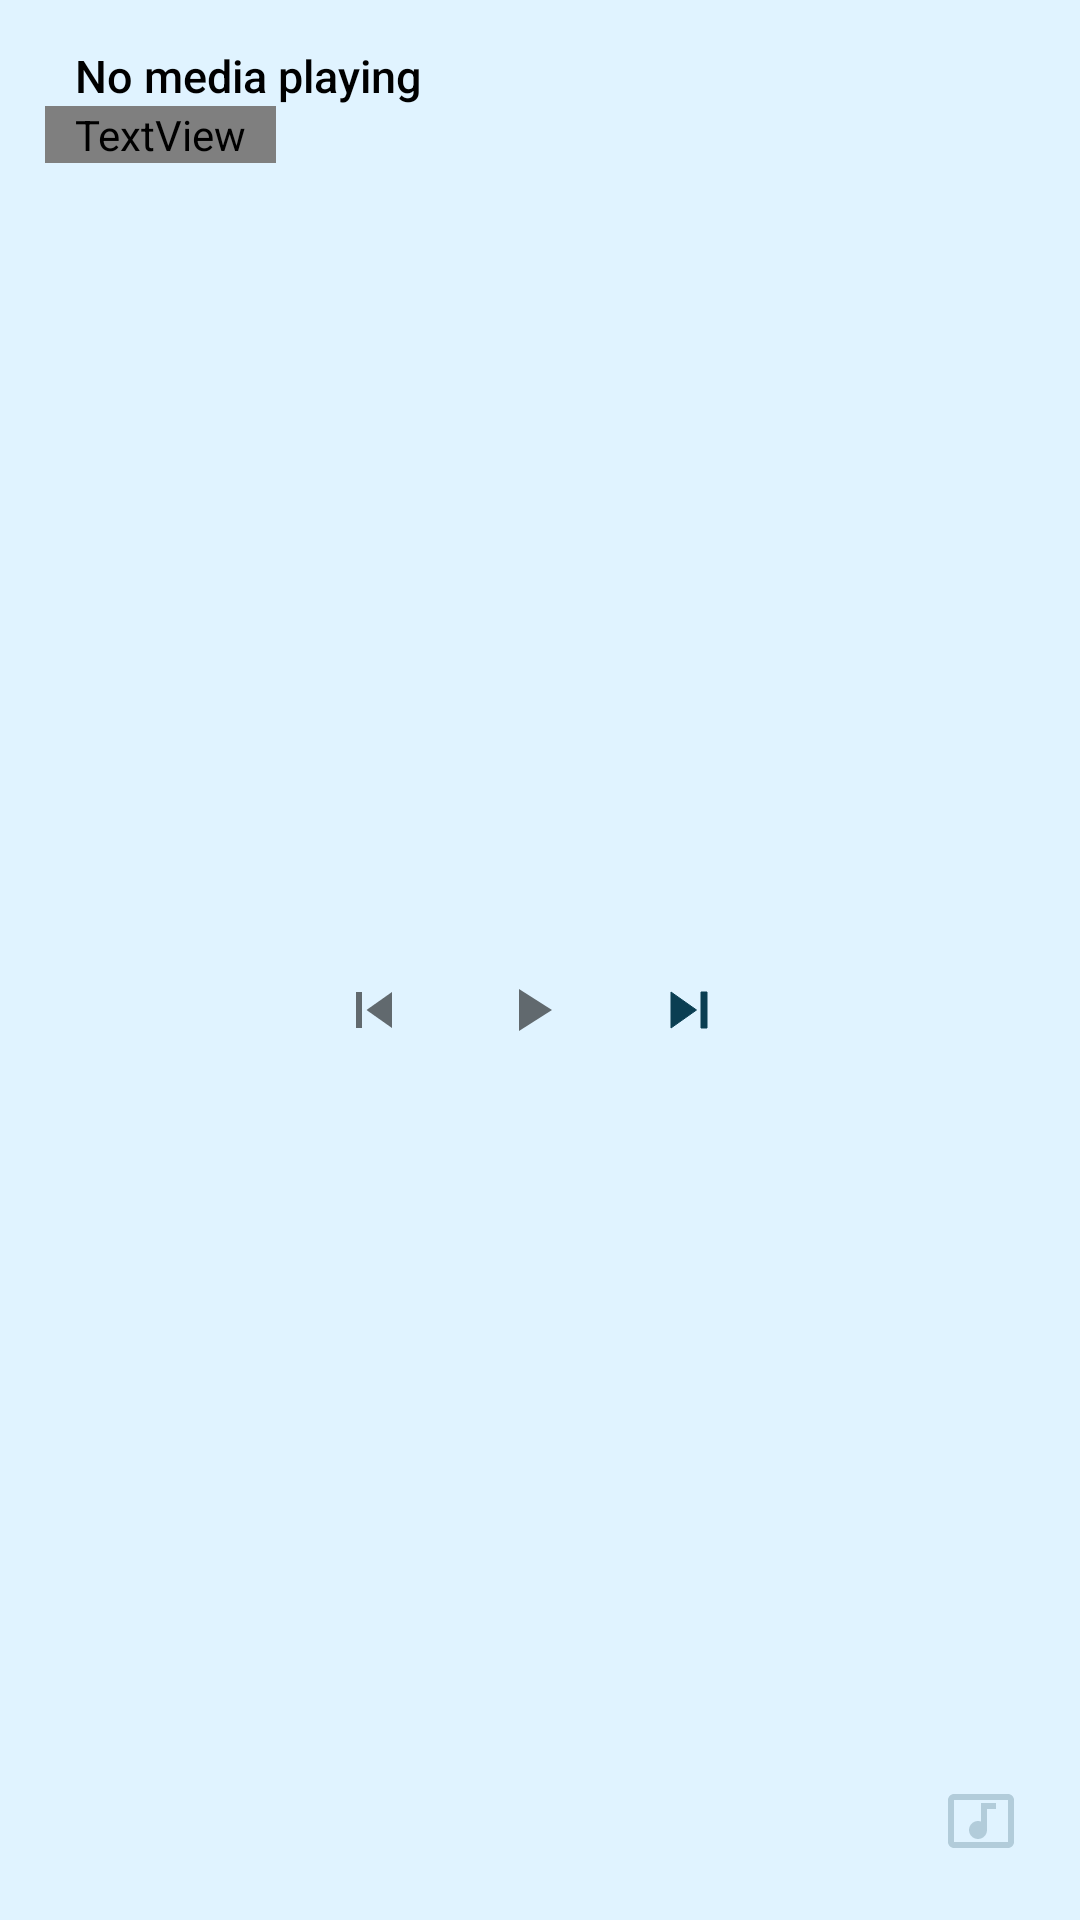

Locate icon controls on the screen. Image size 1080*1920, boxes as (x1, y1, x2, y2).
next: (670, 991, 708, 1029)
Play/pause button: (519, 989, 552, 1031)
Previous song button: (356, 992, 392, 1028)
